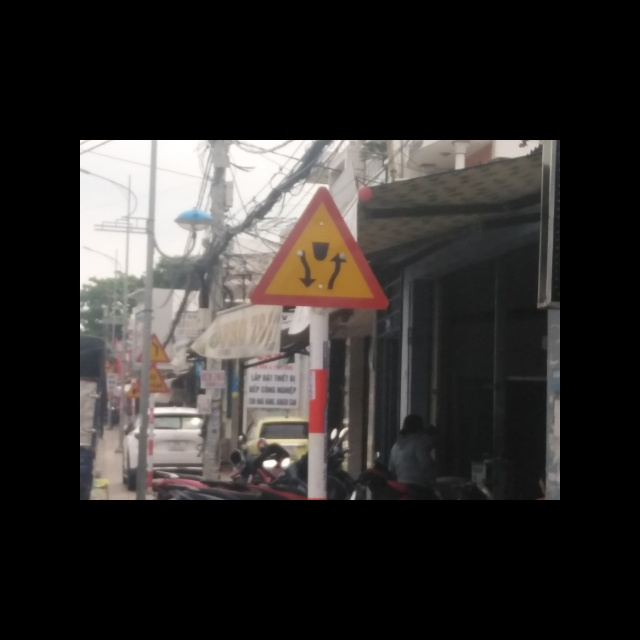Đường đôi: (246, 190, 389, 316)
